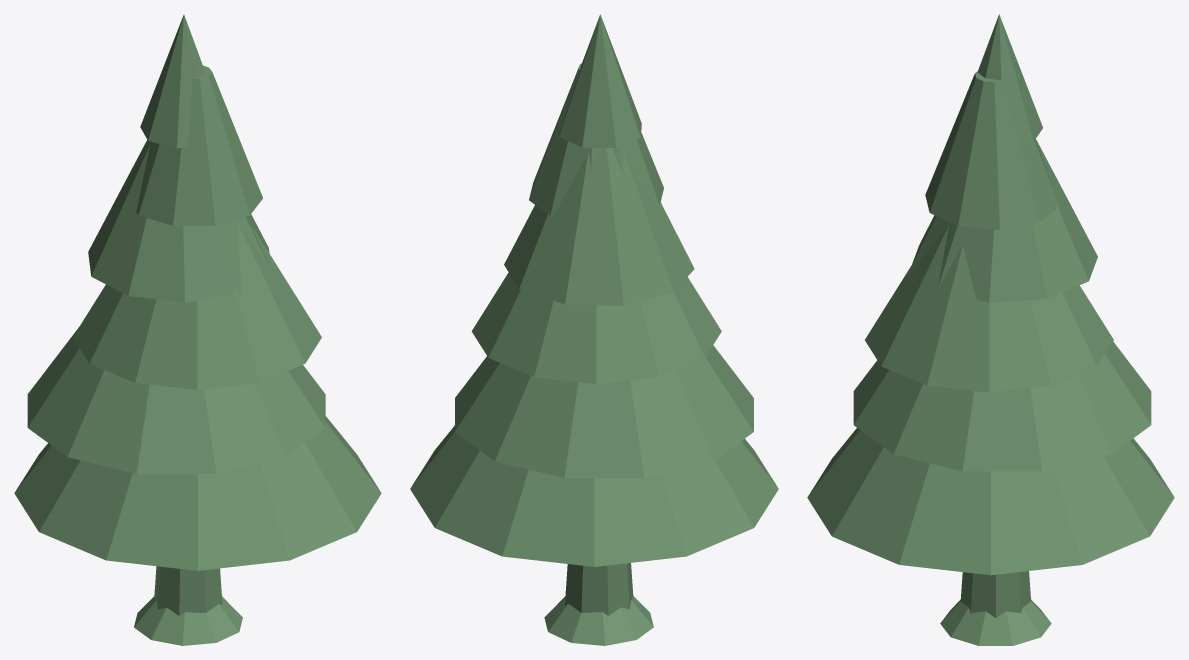
File: tree.glb
3 renders of one model, left to right at view 1: azimuth 30°, elevation 25°; view 2: azimuth 150°, elevation 25°; view 3: azimuth 270°, elevation 25°, orthographic.
Visible parts, largest first — view 1: tree; view 2: tree; view 3: tree.
Boxes of the visible parts, left/top/right/bottom form: tree: left=14, top=14, right=381, bottom=645; tree: left=410, top=14, right=778, bottom=645; tree: left=807, top=14, right=1174, bottom=645.
Size of the model in its own units: 2.24 by 4.09 by 2.24.
